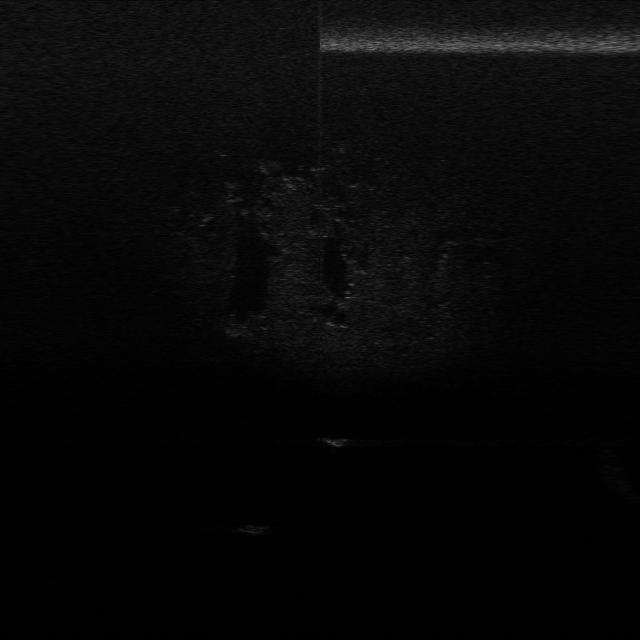cube: (240, 518, 270, 538)
square cage: (317, 427, 363, 452)
